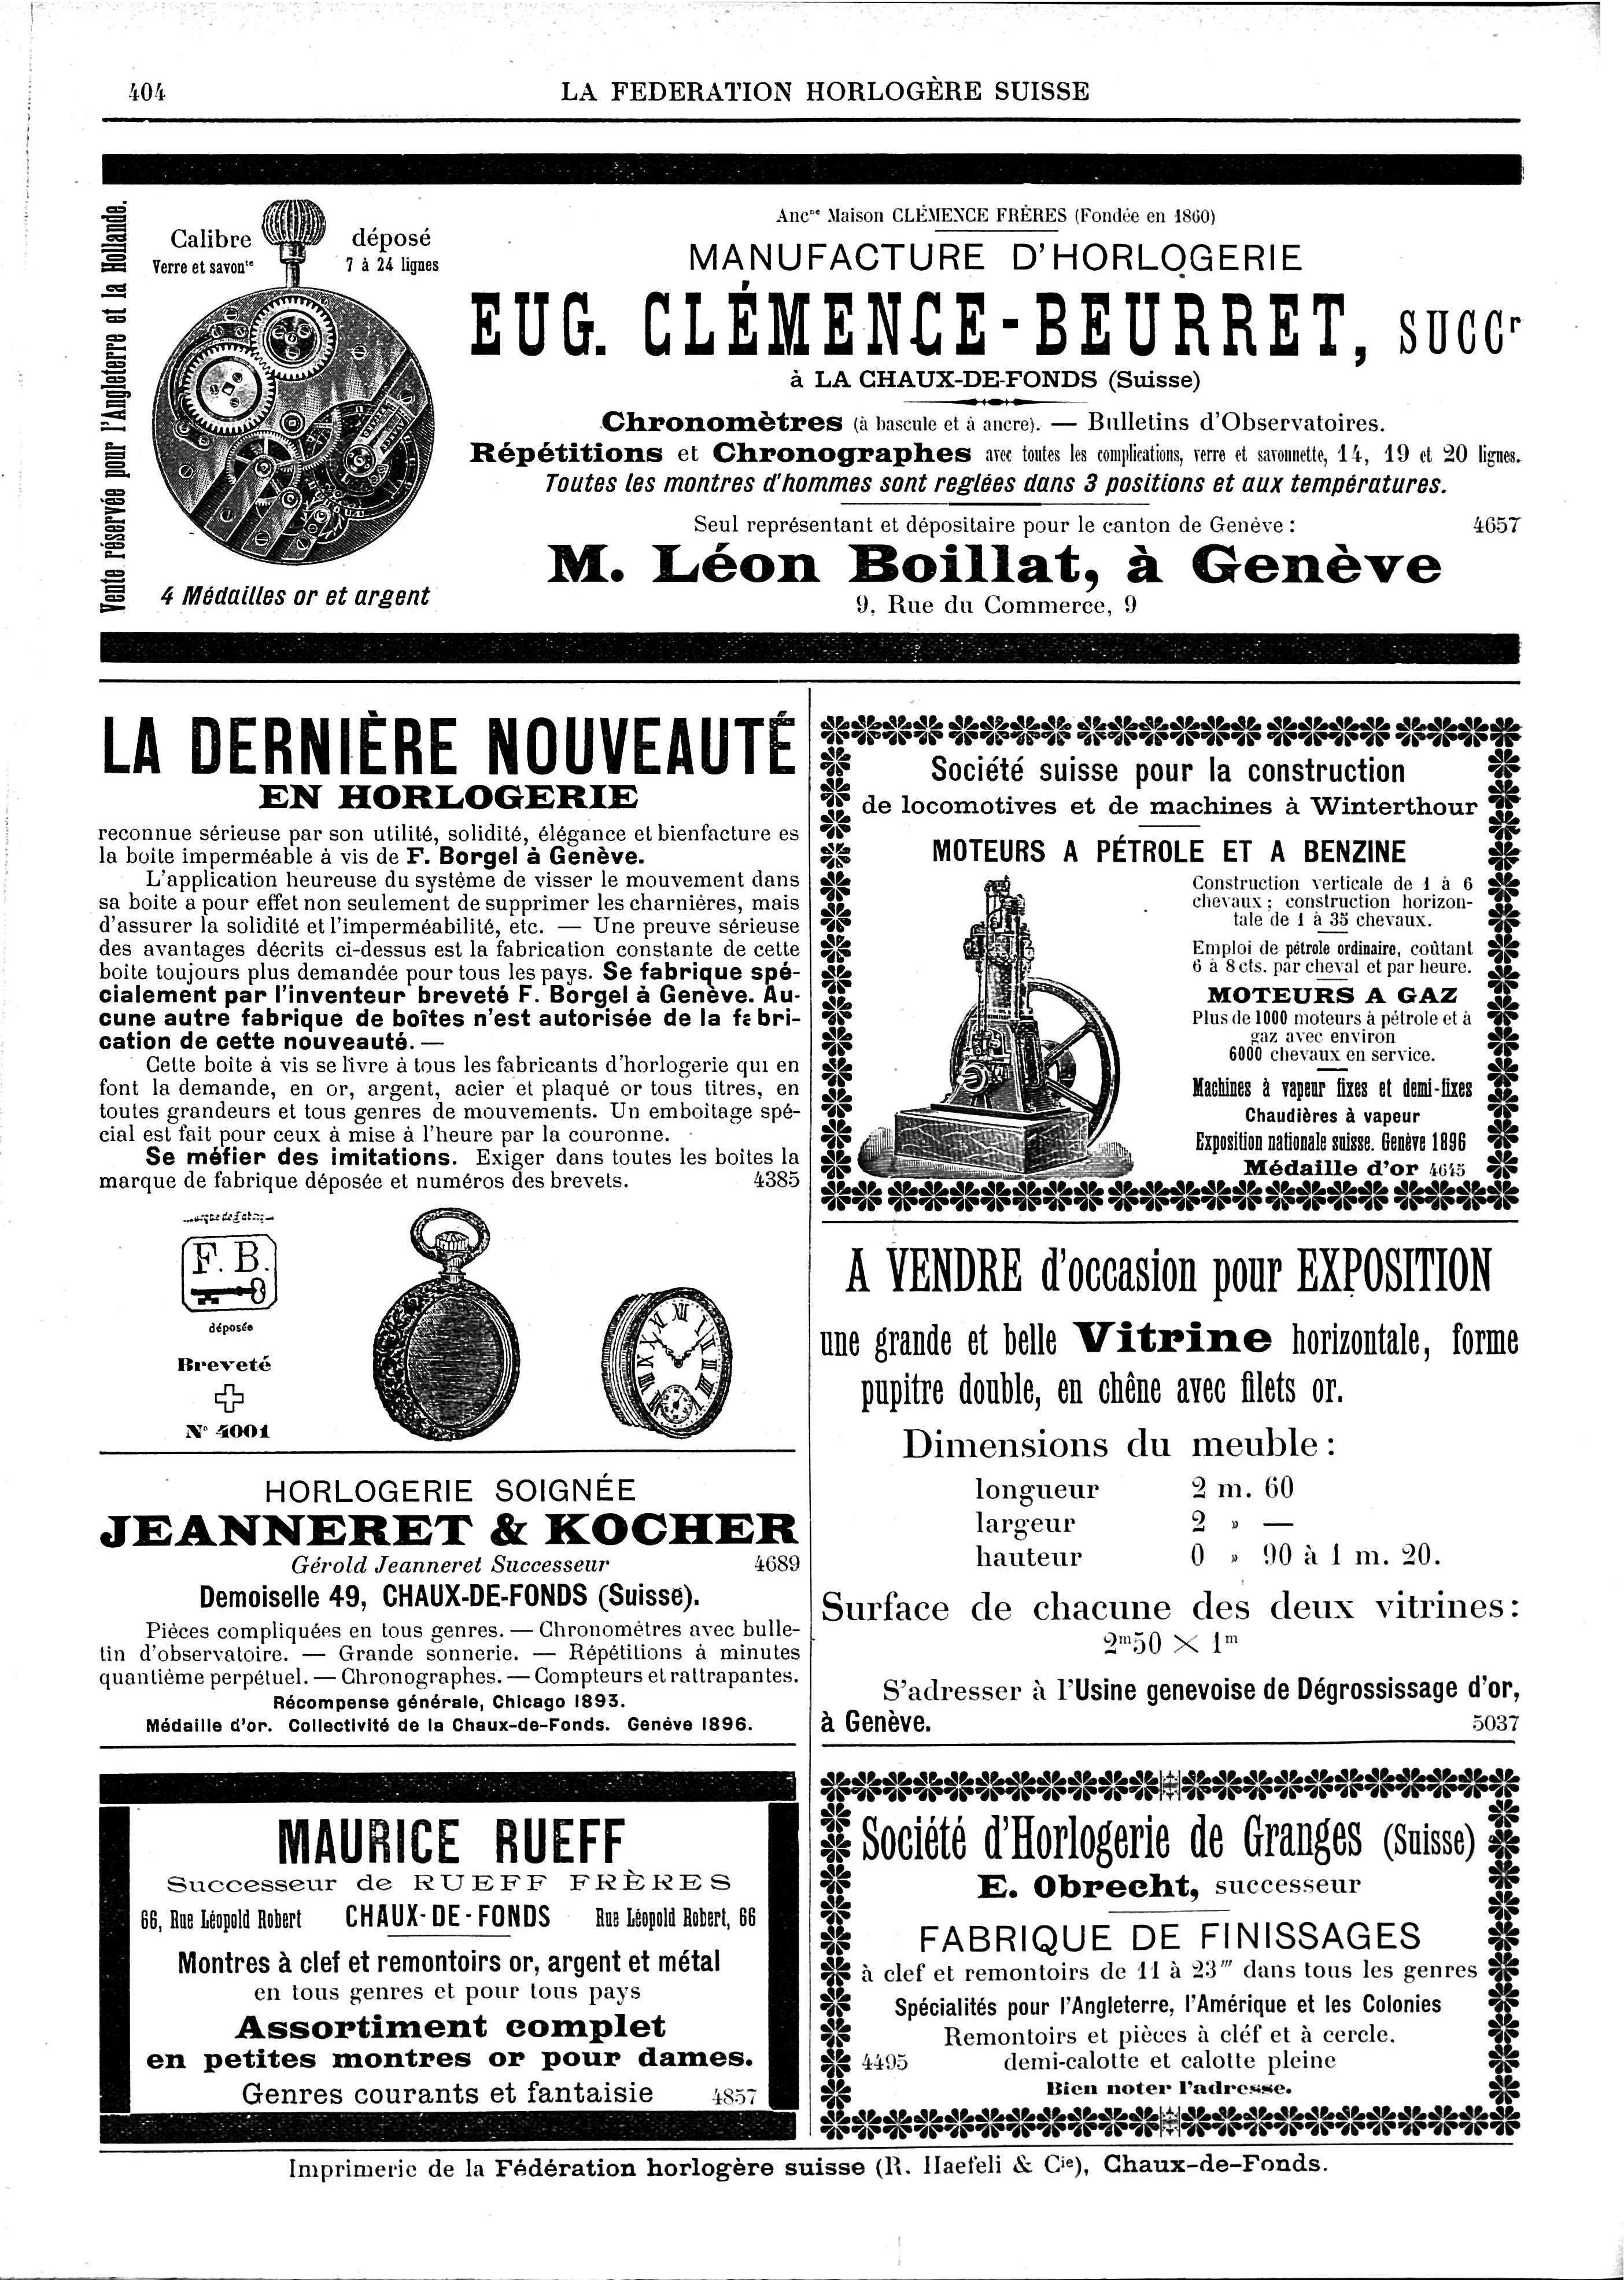figure: (158, 204, 441, 570), (866, 881, 1135, 1180), (373, 1209, 513, 1436), (592, 1282, 736, 1443), (174, 1229, 294, 1336), (174, 1354, 288, 1447)
section: (473, 281, 1346, 366), (100, 707, 787, 807), (547, 540, 1454, 589), (844, 1243, 1483, 1299), (97, 1503, 789, 1550), (148, 1703, 766, 1744), (1195, 1074, 1457, 1165), (278, 1814, 626, 1865), (921, 833, 1422, 863), (192, 1577, 582, 1614), (977, 1869, 1209, 1906), (1211, 988, 1439, 1007)
text: (97, 874, 796, 1055), (877, 1928, 1469, 2095), (475, 404, 1524, 496), (903, 1429, 1457, 1580), (137, 1992, 752, 2099), (144, 1872, 750, 1976), (100, 1071, 780, 1158), (824, 1329, 1524, 1413), (93, 1621, 800, 1691), (828, 1593, 1513, 1644), (870, 759, 1487, 814), (831, 1684, 1503, 1733), (97, 821, 793, 867), (1188, 881, 1464, 981), (684, 237, 1306, 281), (866, 1814, 1469, 1851), (90, 1173, 636, 1202), (555, 74, 1095, 104), (1192, 1011, 1480, 1058), (97, 204, 127, 626), (773, 204, 1218, 230), (160, 582, 438, 615), (1396, 304, 1517, 355)
